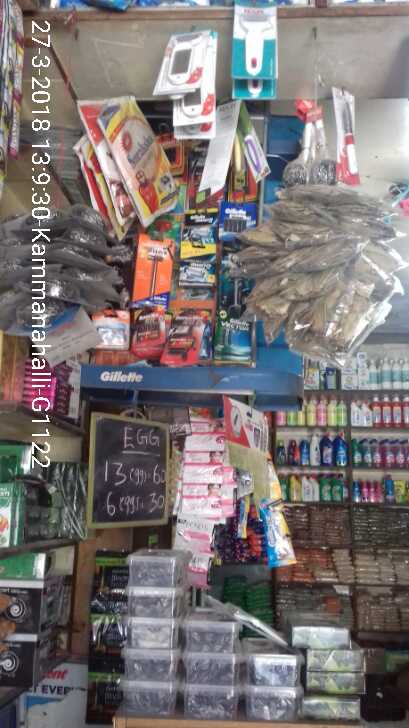gillette: (218, 248, 254, 361), (132, 237, 171, 314), (179, 208, 216, 250), (180, 249, 216, 287)
